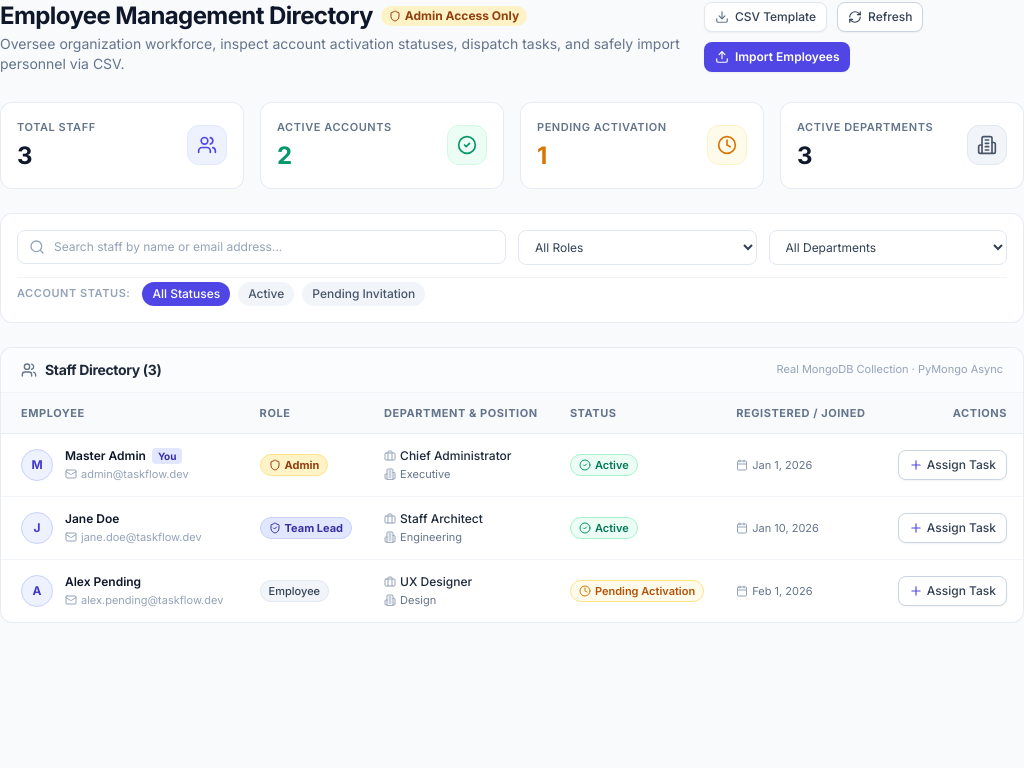
Test: EmployeesPage › opens Assign Task modal pre-selecting the employee when clicking Assign Task
Click the button "Assign Task" in the row of "Master Admin" at (952, 464), box [898,450,1007,480]
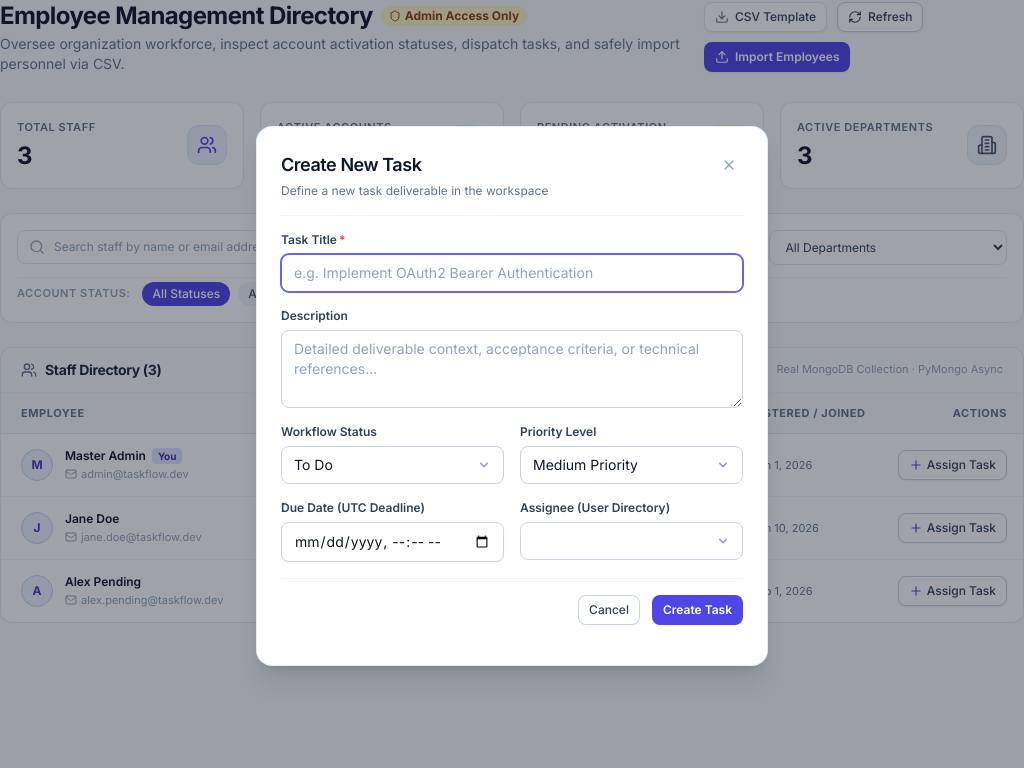
Result: the dialog is shown
Result: the button "Create Task" is shown at [652,595,743,625]
